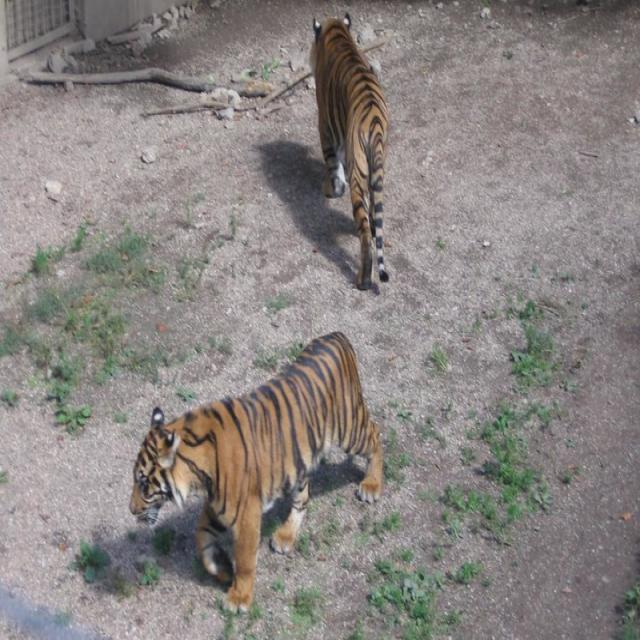Tiger: (128, 327, 386, 615), (306, 8, 391, 294)
